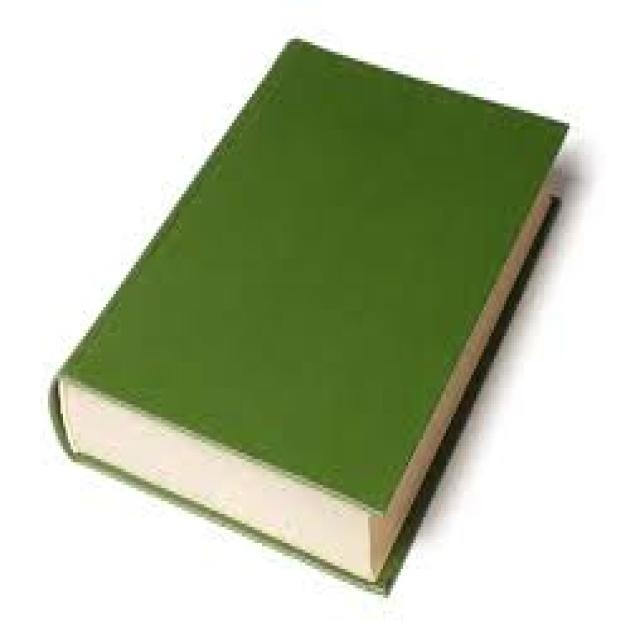book: (52, 21, 588, 618)
